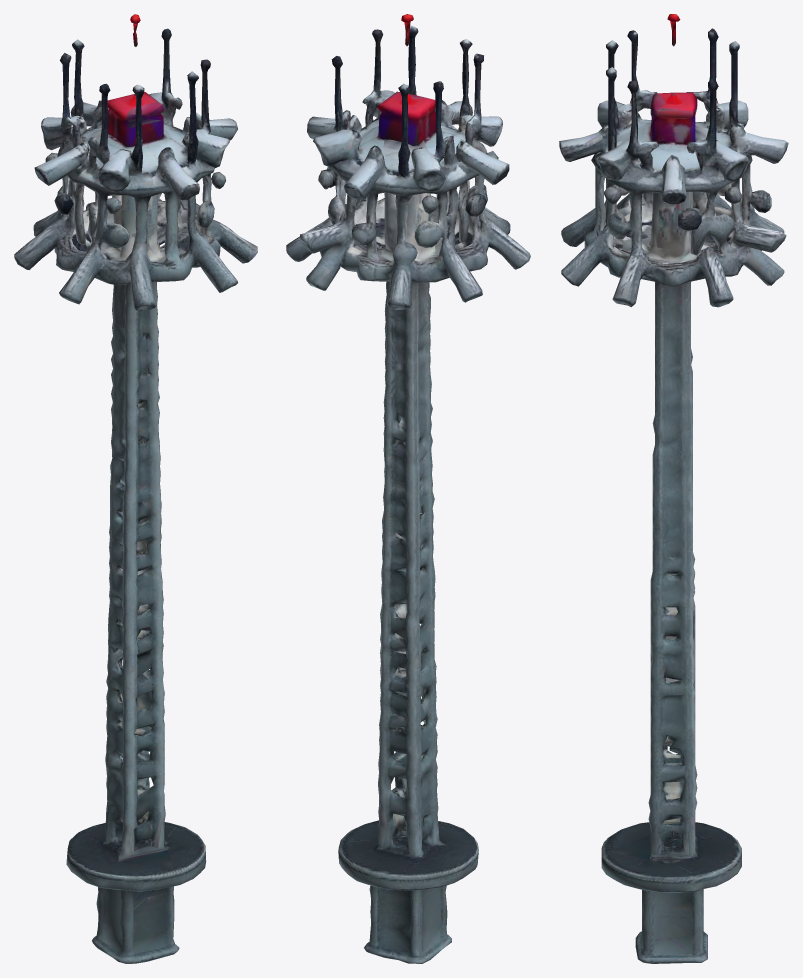
The model's file is SecurityCamera.glb.
The picture shows the model from 3 angles, left to right: view 1: azimuth 30°, elevation 25°; view 2: azimuth 150°, elevation 25°; view 3: azimuth 270°, elevation 25°; orthographic projection.
Size of the model in its own units: 0.4188 by 1.91 by 0.4227.
Materials: 1 (1 with a texture image).
